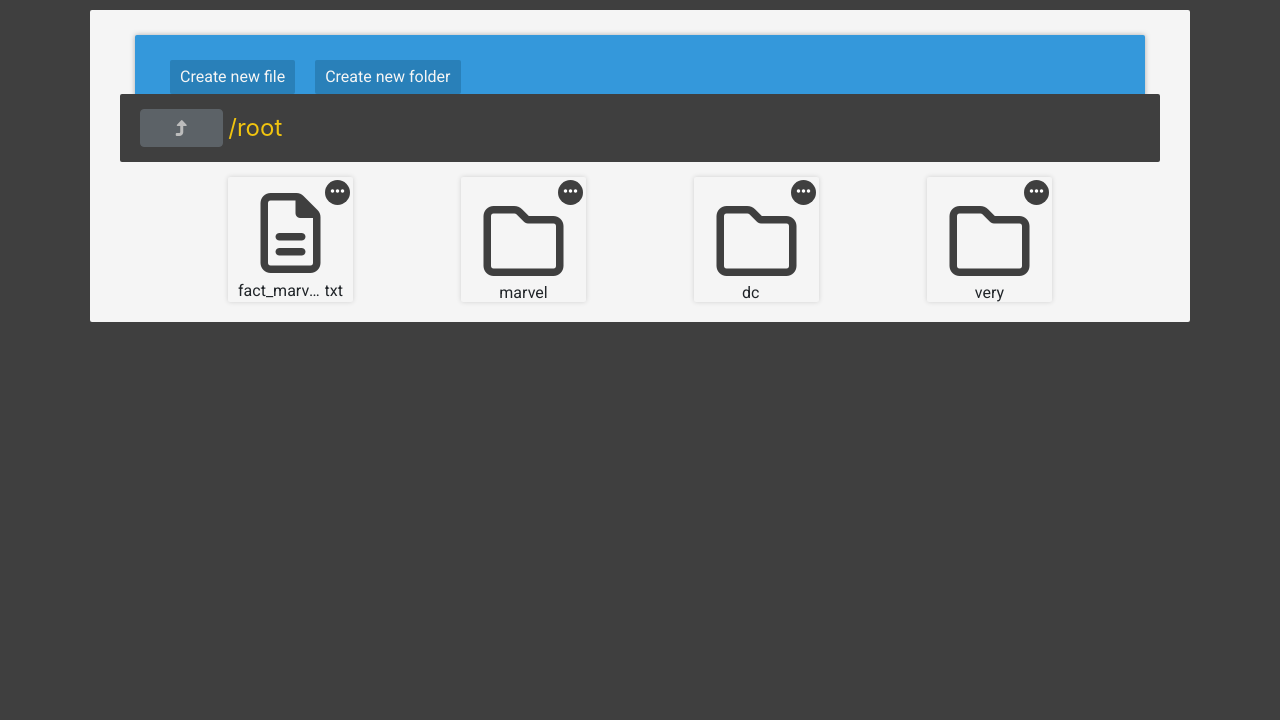
Test: Tests to make sure the create functions work › Make sure a new folder is created when modal is submitted
The width and height of the screenshot is (1280, 720).
Click the button "Create new folder" at (388, 77), box [315, 60, 460, 94]
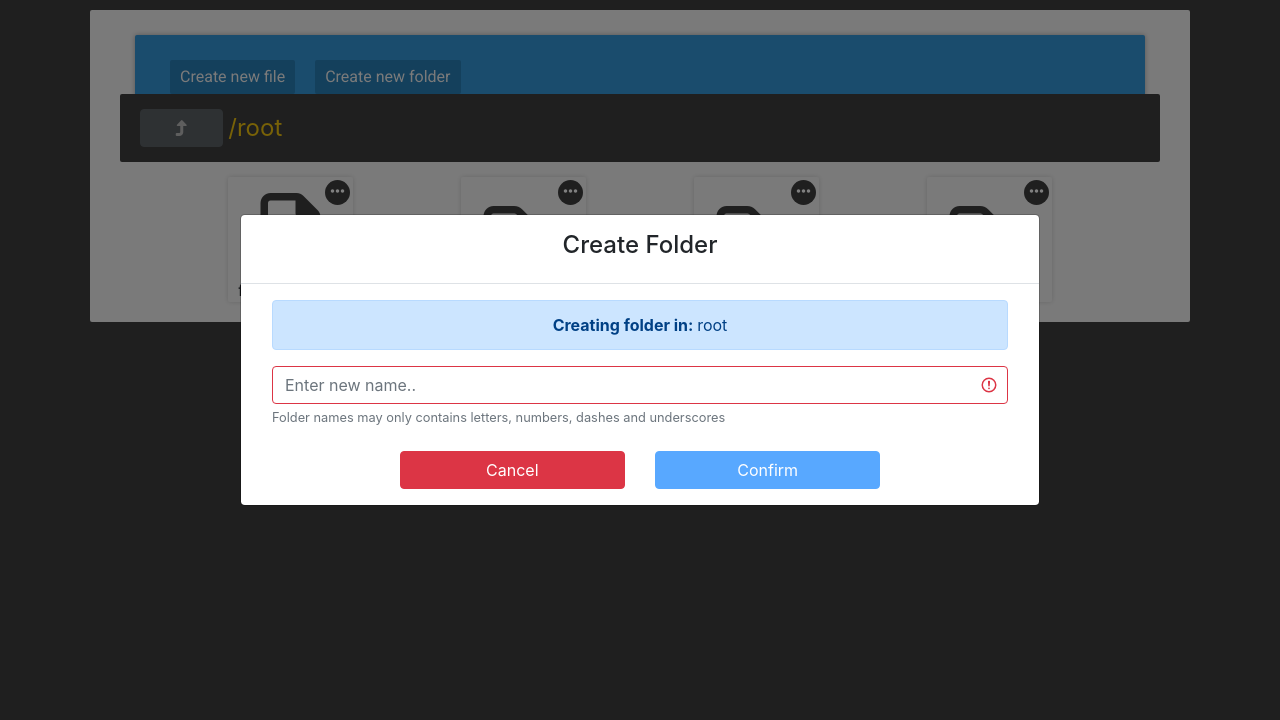
Type "dcuniverse" into the field with placeholder "Enter new name.." at (640, 385), box [272, 366, 1008, 404]
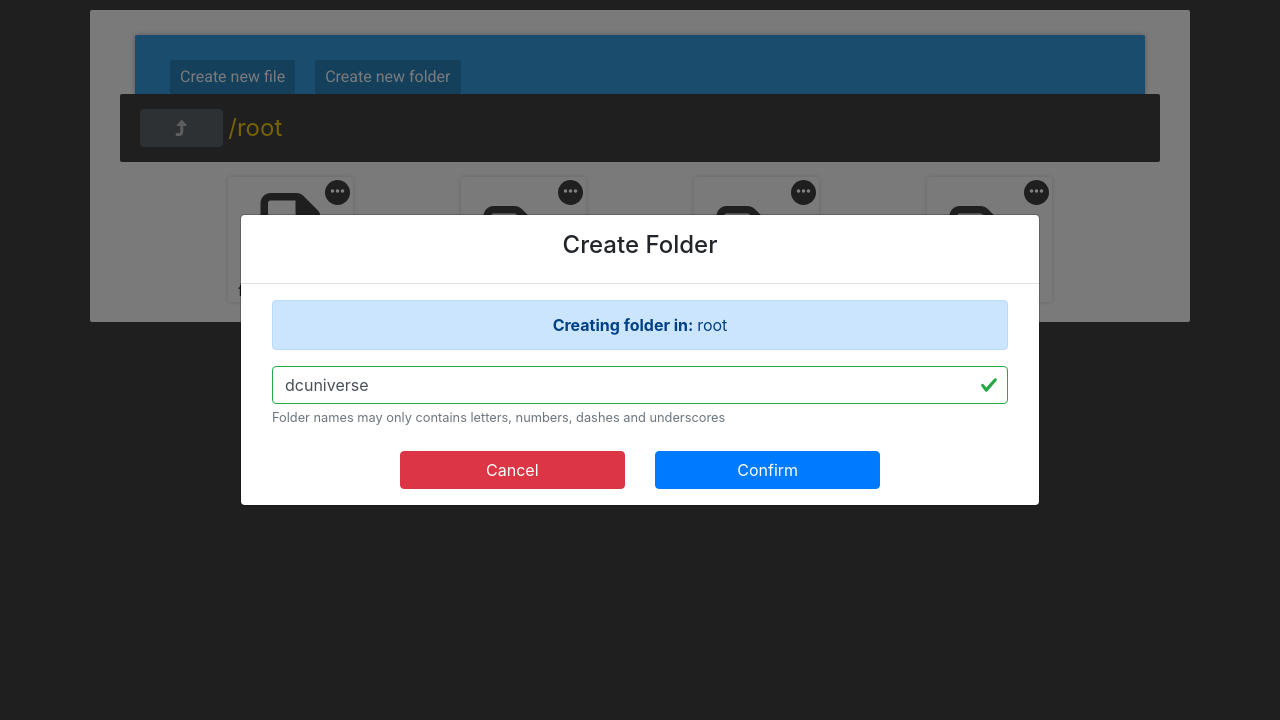
Click the button "Confirm" at (768, 470), box [655, 452, 880, 490]
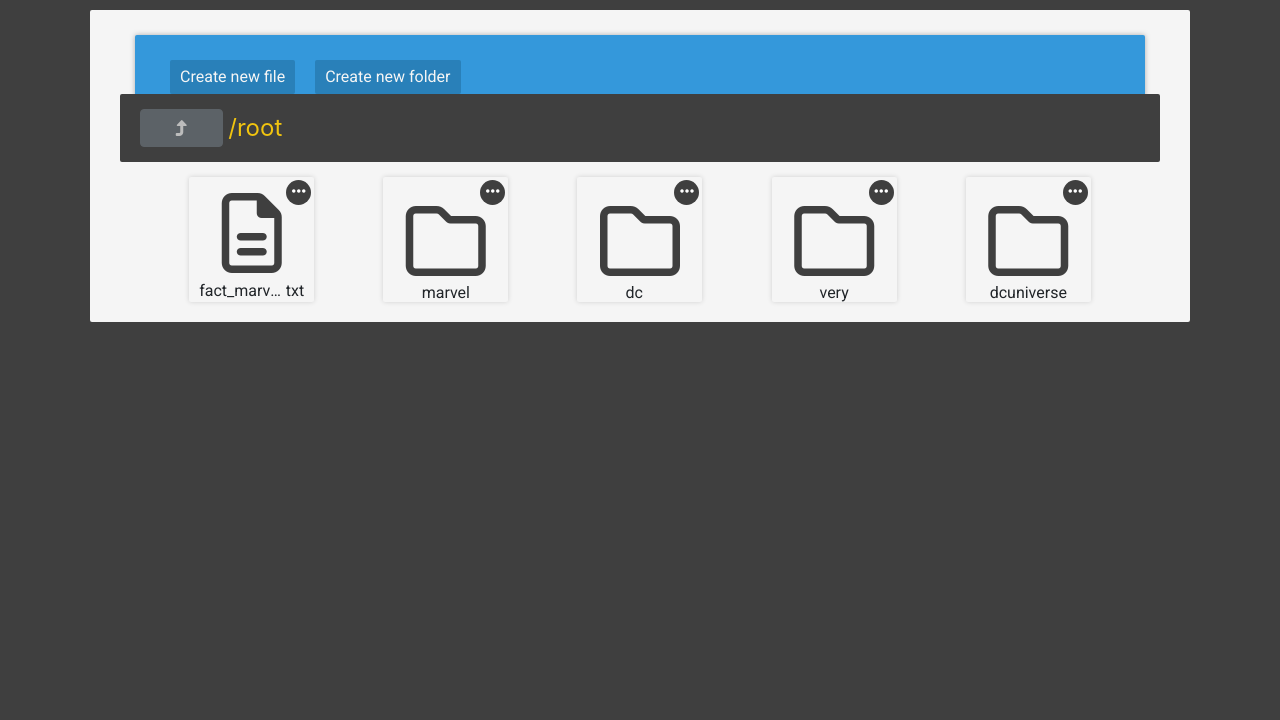
Expected: the text "dcuniverse" is shown, [990, 281, 1067, 302]
